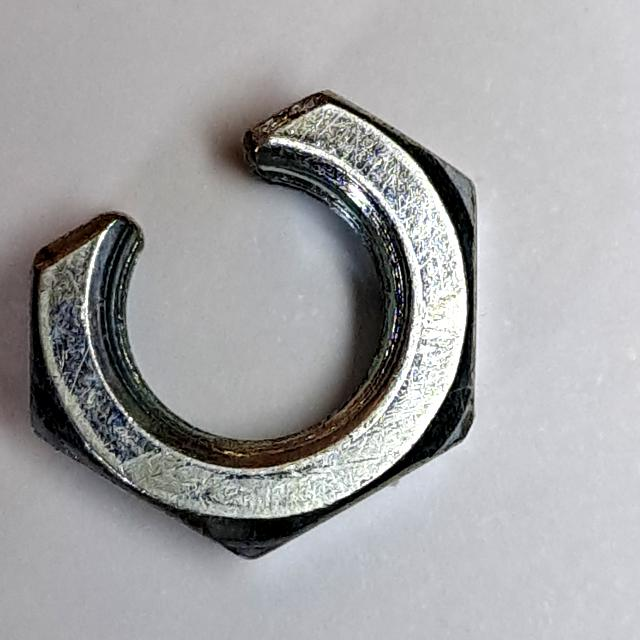Fracture: (19, 79, 496, 575)
